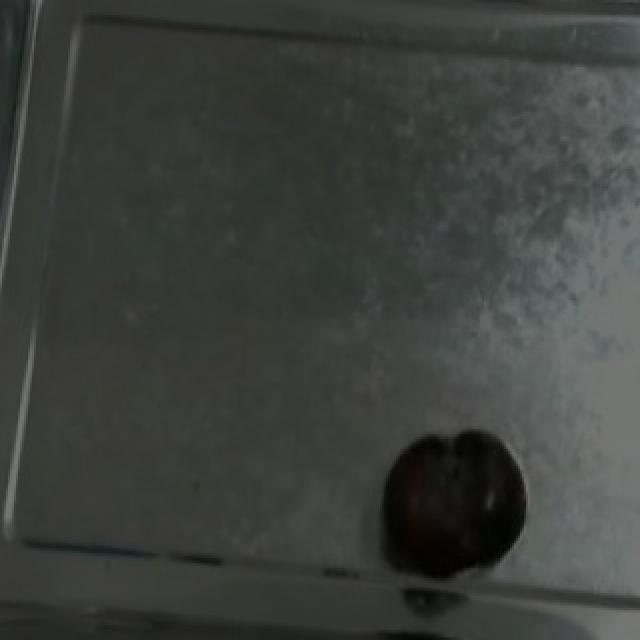Fruit: (368, 420, 538, 590)
